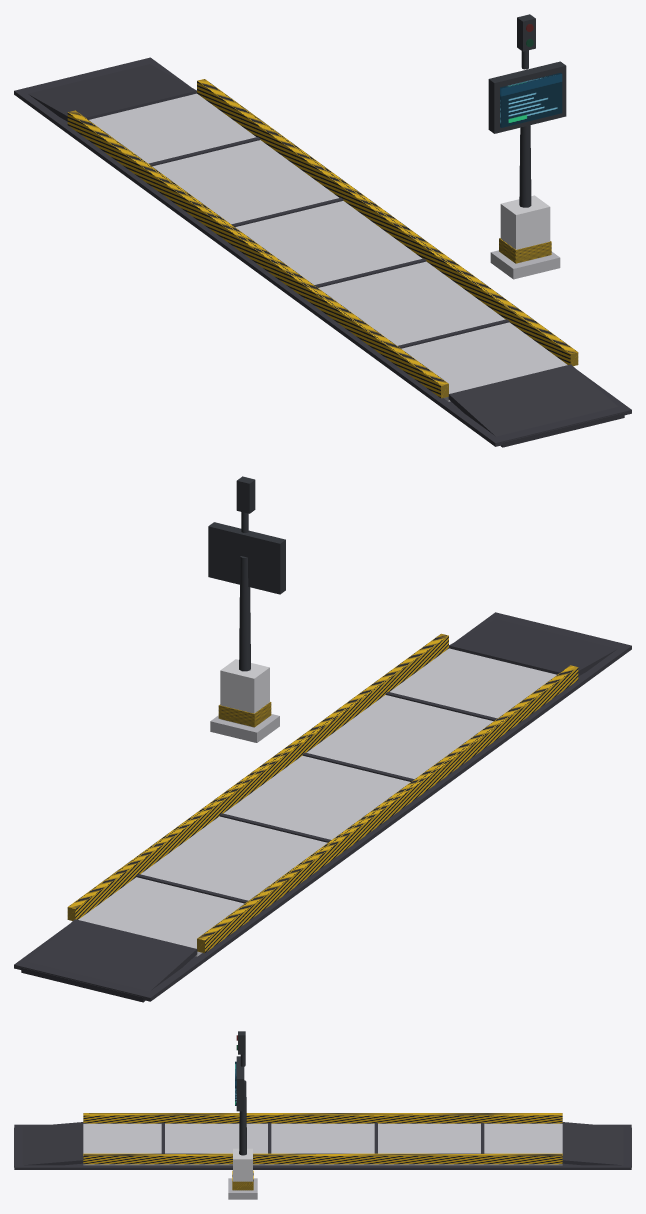
3 views of the same model, one above another, from view 1: azimuth 30°, elevation 25°; view 2: azimuth 150°, elevation 25°; view 3: azimuth 270°, elevation 25° (orthographic). The views are drawn at different scales.
Visible parts, largest first — view 1: object 2, object 1, object 3, object 6, object 7, object 5, object 4; view 2: object 2, object 1, object 3, object 6, object 5, object 4; view 3: object 2, object 3, object 1, object 6, object 5, object 4.
Boxes of the visible parts, box(x1,y1,x2,y2) form: object 2: box(89, 93, 567, 401); object 1: box(14, 57, 631, 447); object 3: box(67, 79, 578, 398); object 6: box(488, 14, 566, 207); object 7: box(500, 72, 562, 127); object 5: box(500, 195, 550, 263); object 4: box(490, 250, 560, 279); object 2: box(78, 648, 556, 956); object 1: box(14, 612, 631, 1002); object 3: box(67, 633, 578, 953); object 6: box(208, 476, 285, 671); object 5: box(220, 659, 269, 727); object 4: box(210, 714, 279, 742); object 2: box(83, 1123, 562, 1165); object 3: box(83, 1113, 562, 1190); object 1: box(14, 1122, 631, 1169); object 6: box(236, 1031, 246, 1155); object 5: box(233, 1148, 252, 1190); object 4: box(228, 1178, 257, 1199).
Bounding box in the file's own units: 6.81 × 6.67 × 23.21.
9 materials, 2 textured.
